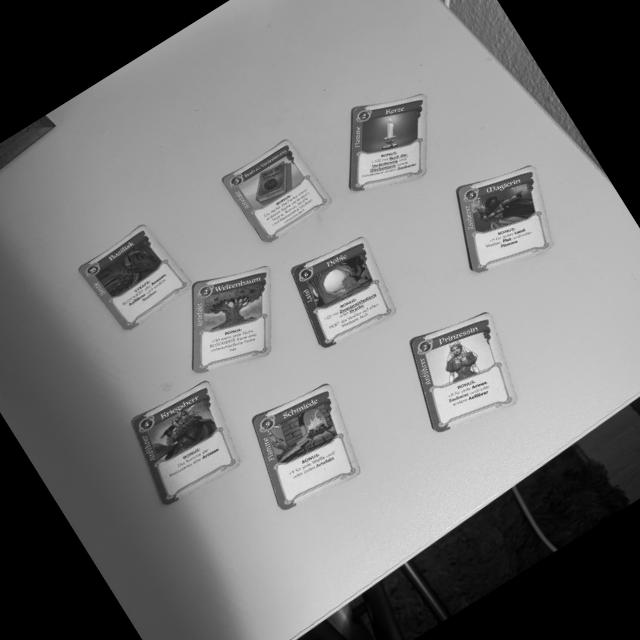Basilisk: (73, 215, 192, 332)
Book Of Changes: (218, 135, 335, 248)
Candle: (346, 93, 429, 193)
Elemental Enchantress: (452, 158, 557, 278)
Forge: (250, 373, 366, 517)
Princess: (407, 306, 520, 440)
Underground Caverns: (286, 231, 401, 354)
Warlord: (124, 379, 244, 510)
World Tree: (186, 264, 276, 378)
